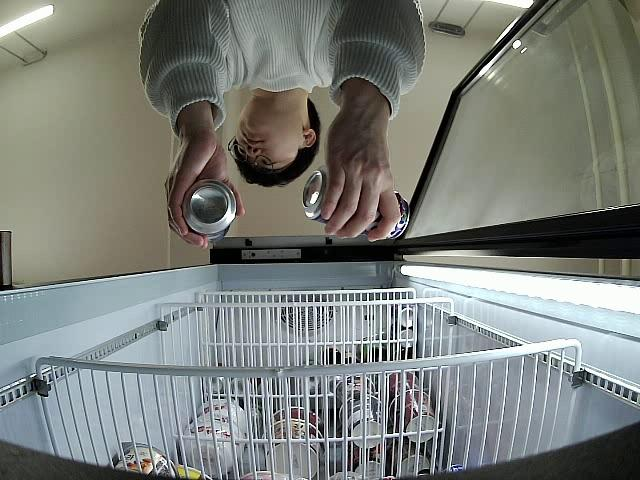00_hand: (319, 100, 400, 242), (164, 126, 244, 249)
14_welchsGrape: (303, 166, 411, 241), (182, 180, 236, 244)
